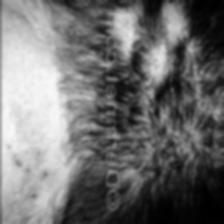Non-Cancerous Skin Condition: (4, 140, 32, 176), (41, 171, 47, 179)
